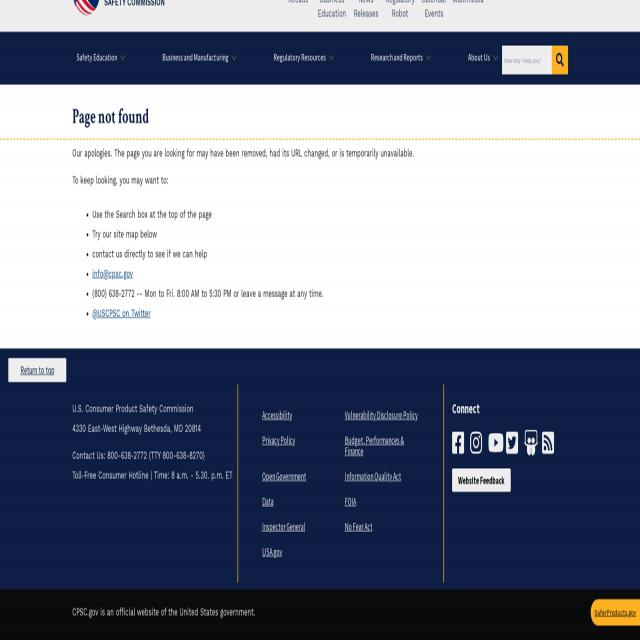button: (158, 40, 236, 76), (270, 40, 334, 76), (367, 40, 431, 76), (72, 40, 125, 76), (452, 468, 511, 492), (8, 358, 66, 382), (591, 599, 640, 625), (464, 40, 498, 76), (72, 0, 100, 21), (552, 47, 569, 74), (488, 430, 504, 455), (524, 430, 538, 455), (506, 430, 518, 455), (542, 430, 554, 455), (452, 430, 464, 455), (470, 430, 482, 455)
field: (502, 46, 552, 74)
